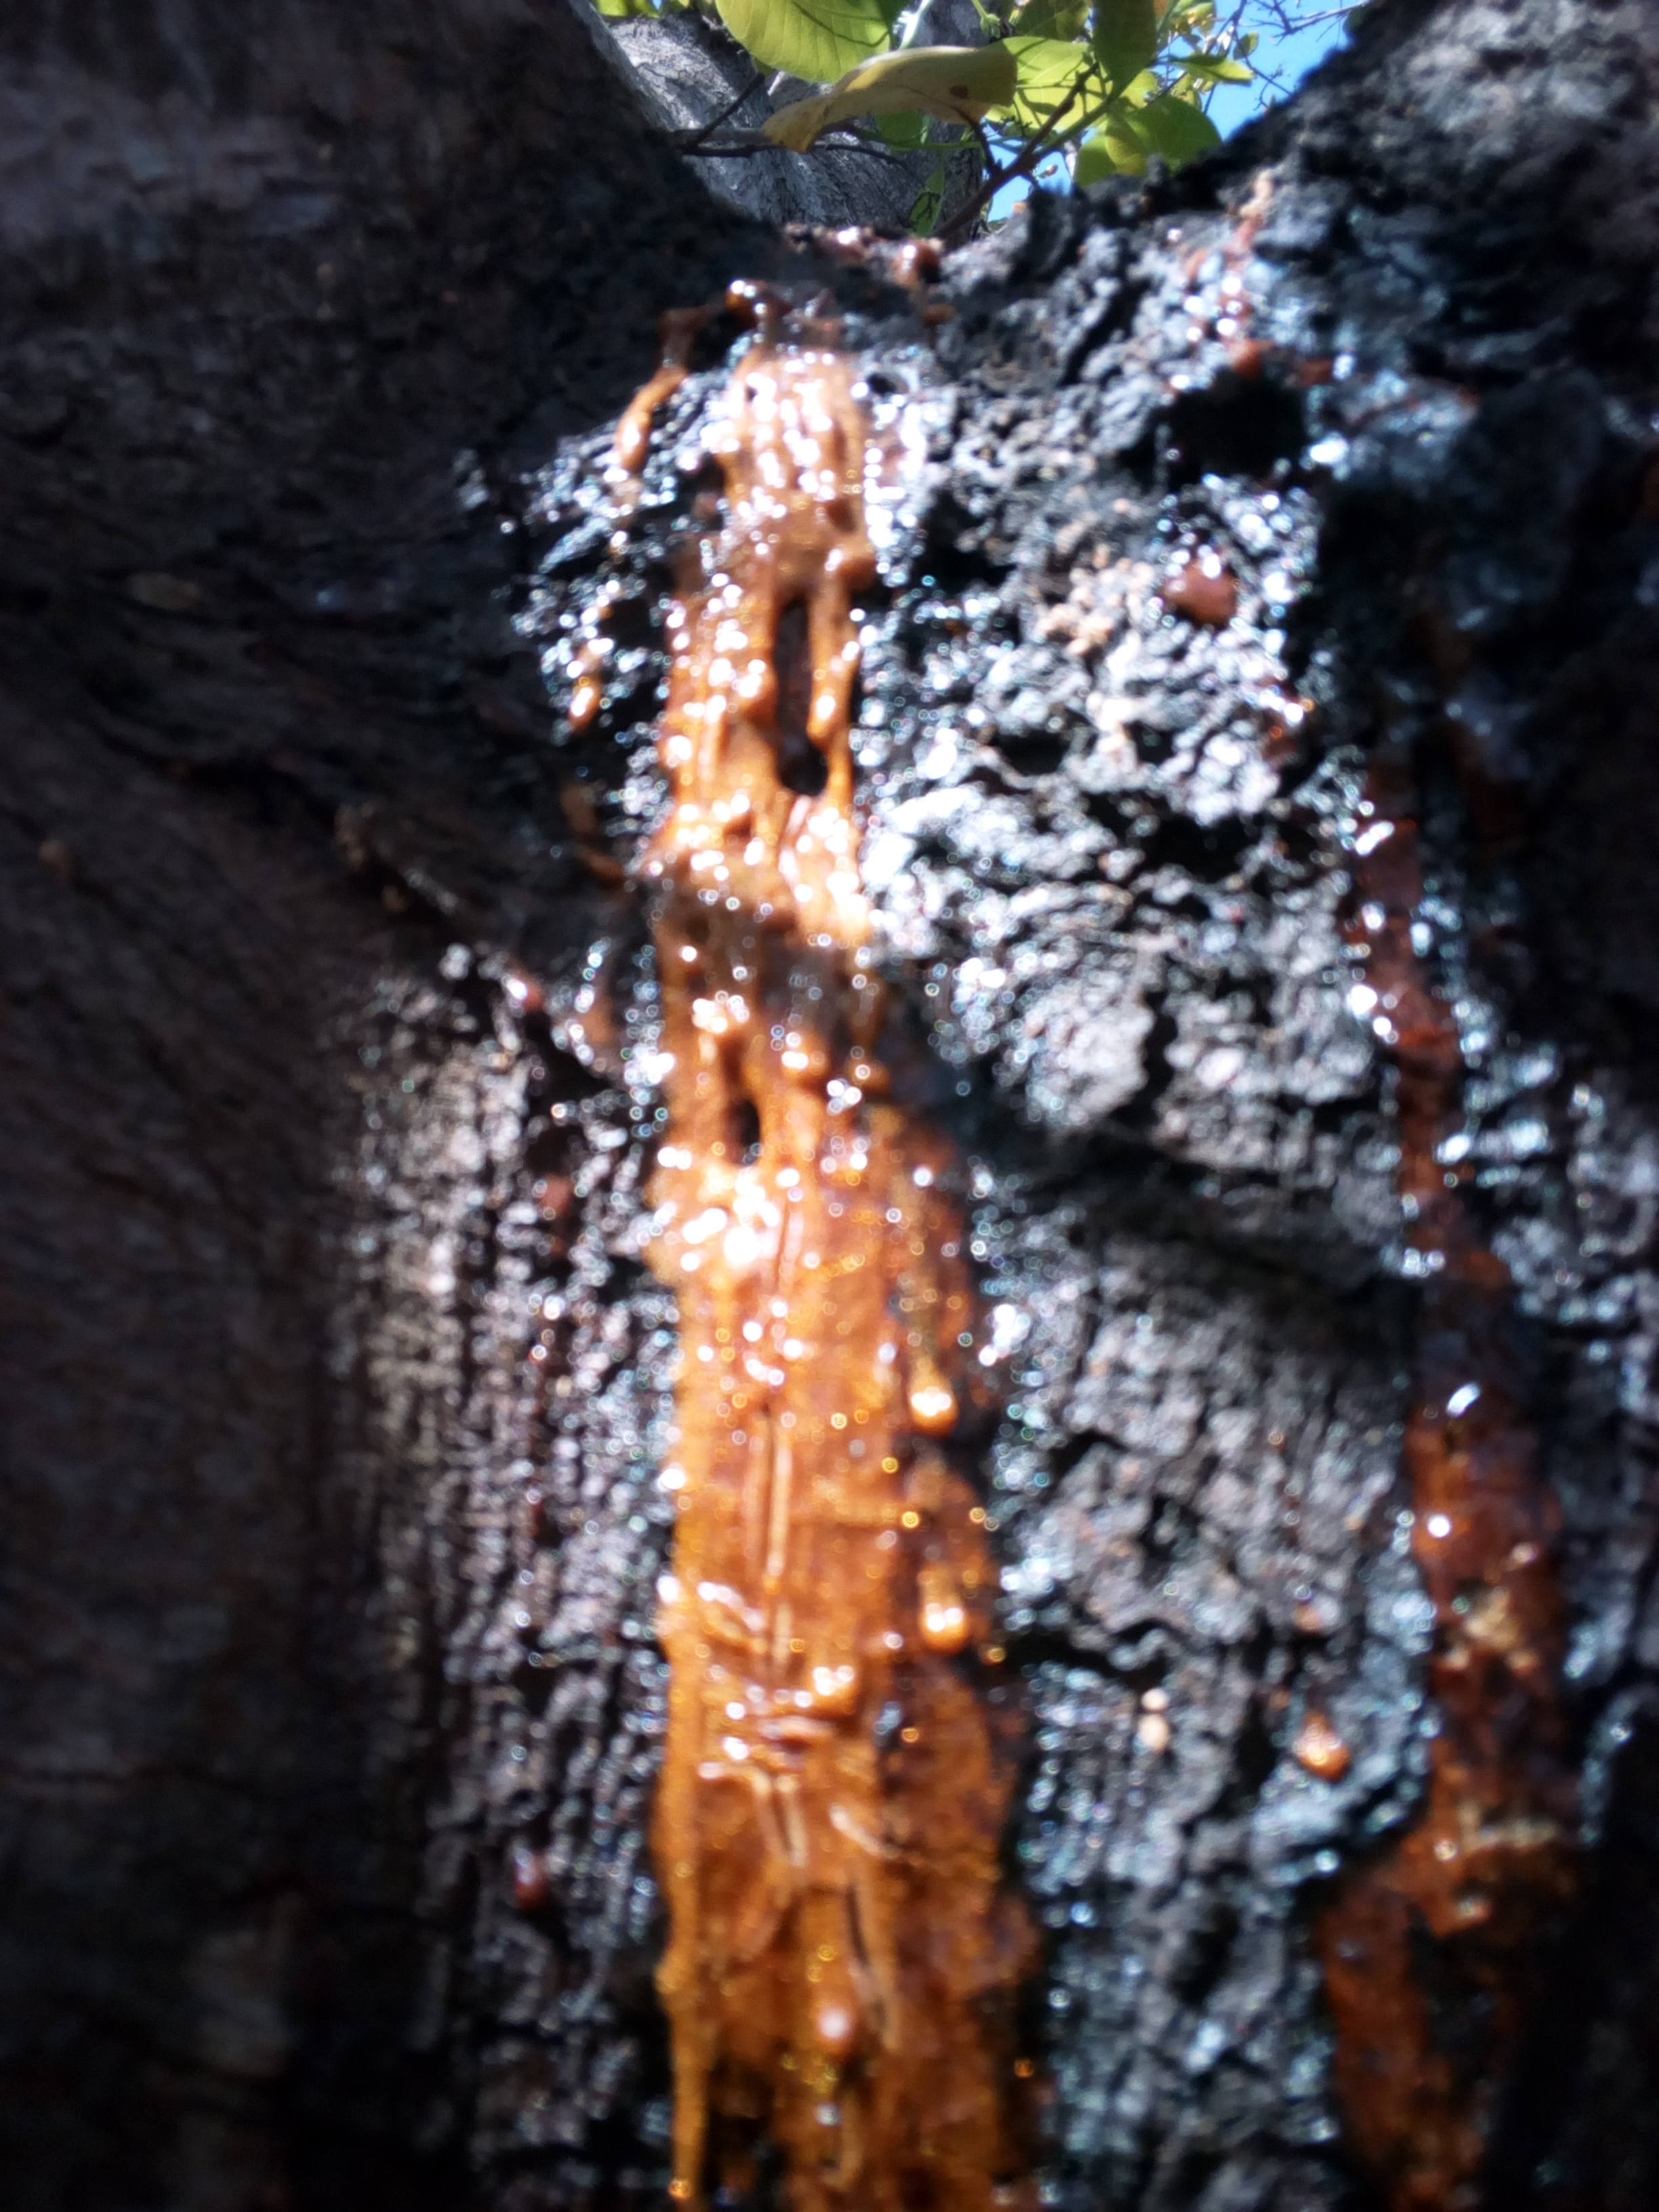Gommose: (640, 279, 1659, 2196)
